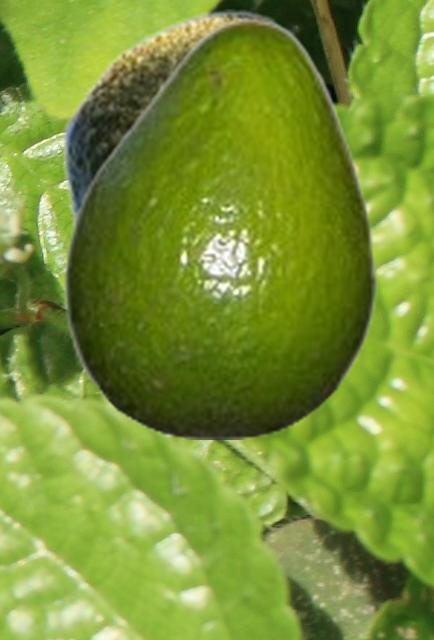avocado: (62, 16, 376, 438), (60, 9, 344, 232)
